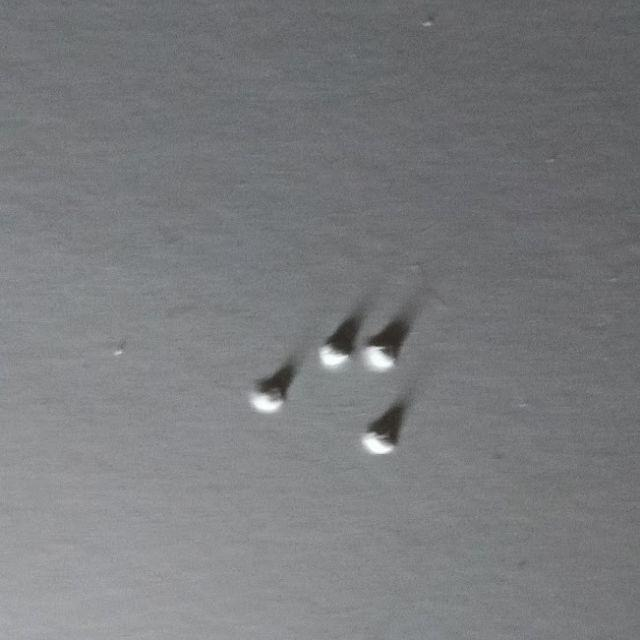dot_5: (203, 336, 286, 459)
masama: (319, 335, 402, 458)
